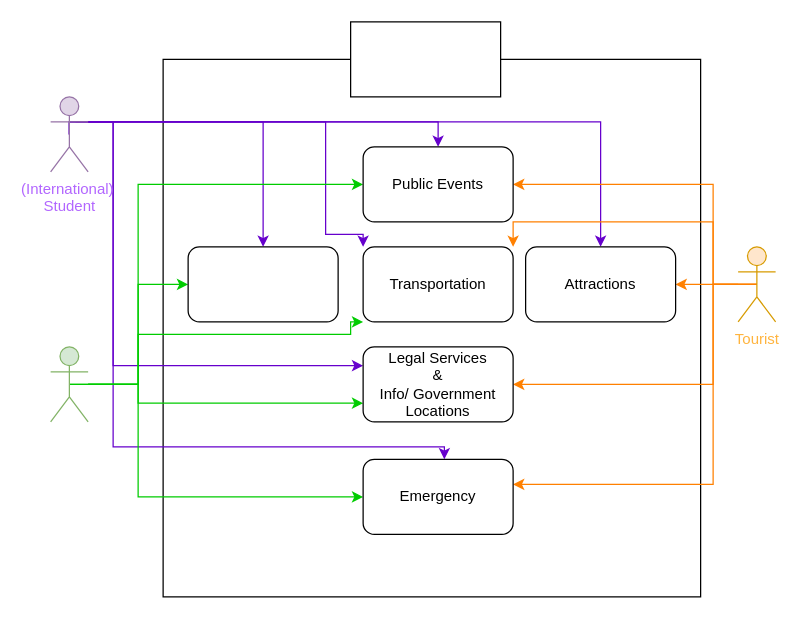
Image size: 800x619. Some labels were removed from this diagram. Each missing label, with the centre of its shape:
"Immigrant" goes at pixel 68 384.
"Integreat Application" goes at pixel 425 59.
"Language" goes at pixel 262 284.
